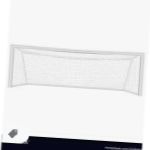goals: (7, 43, 146, 98)
